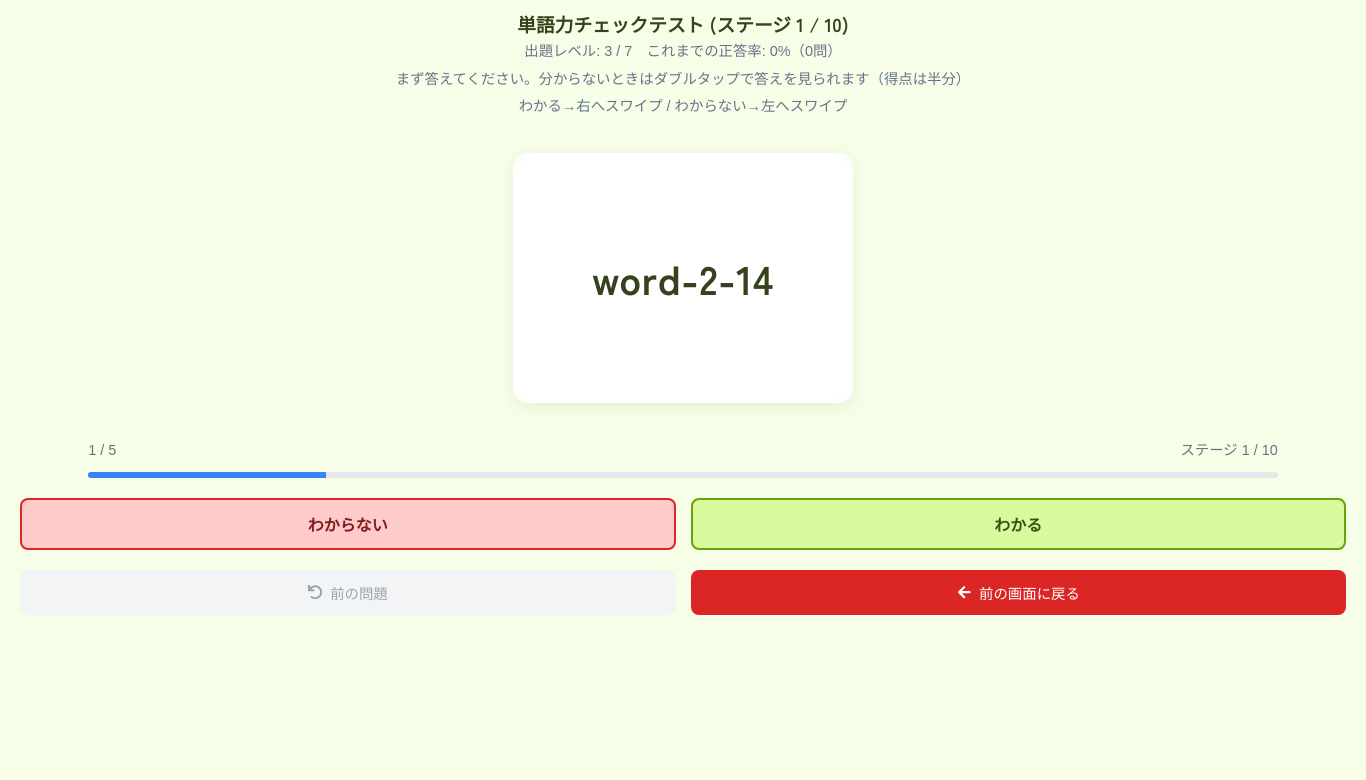
Test: ステージ途中でリセットされない › 全問不正解するとステージ2の出題レベルが下がる
Click the button "わからない" at (348, 524), box [20,498,676,550]
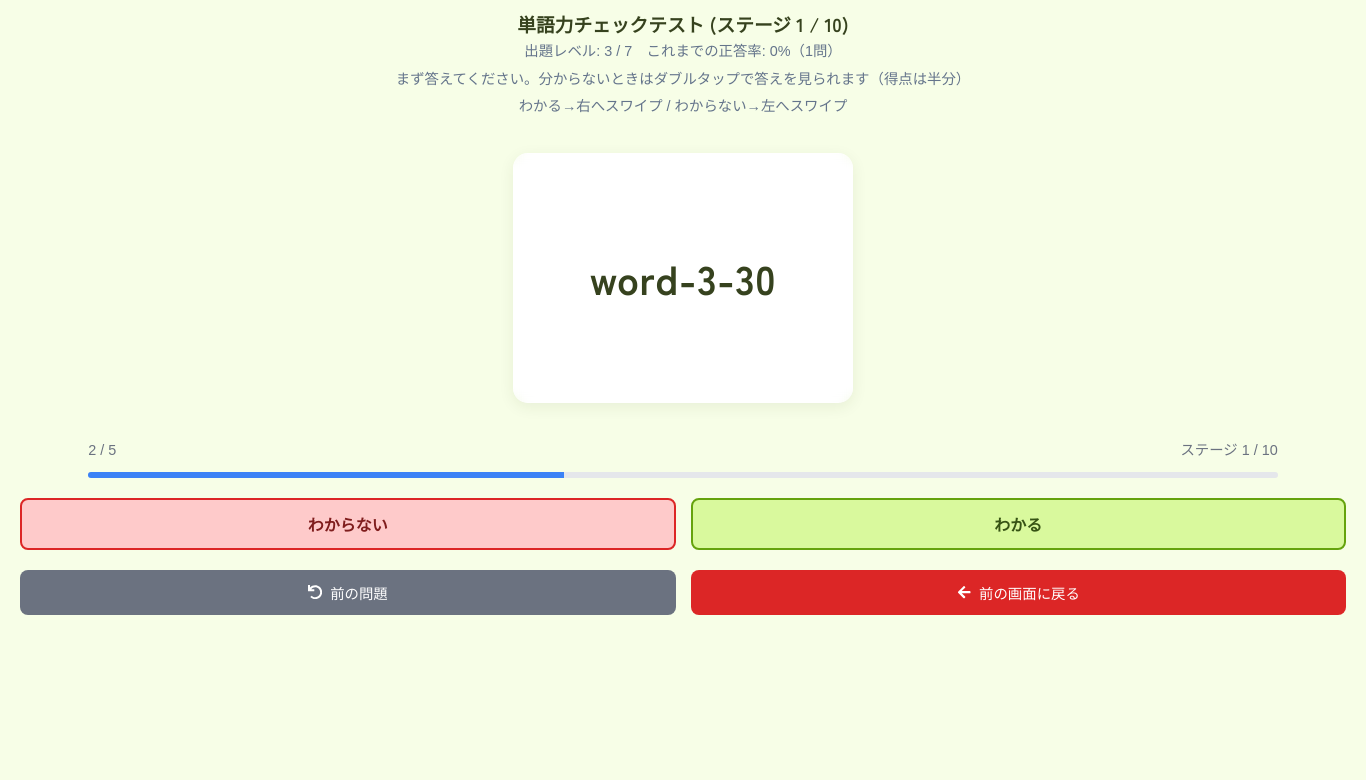
Click the button "わからない" at (348, 524), box [20,498,676,550]
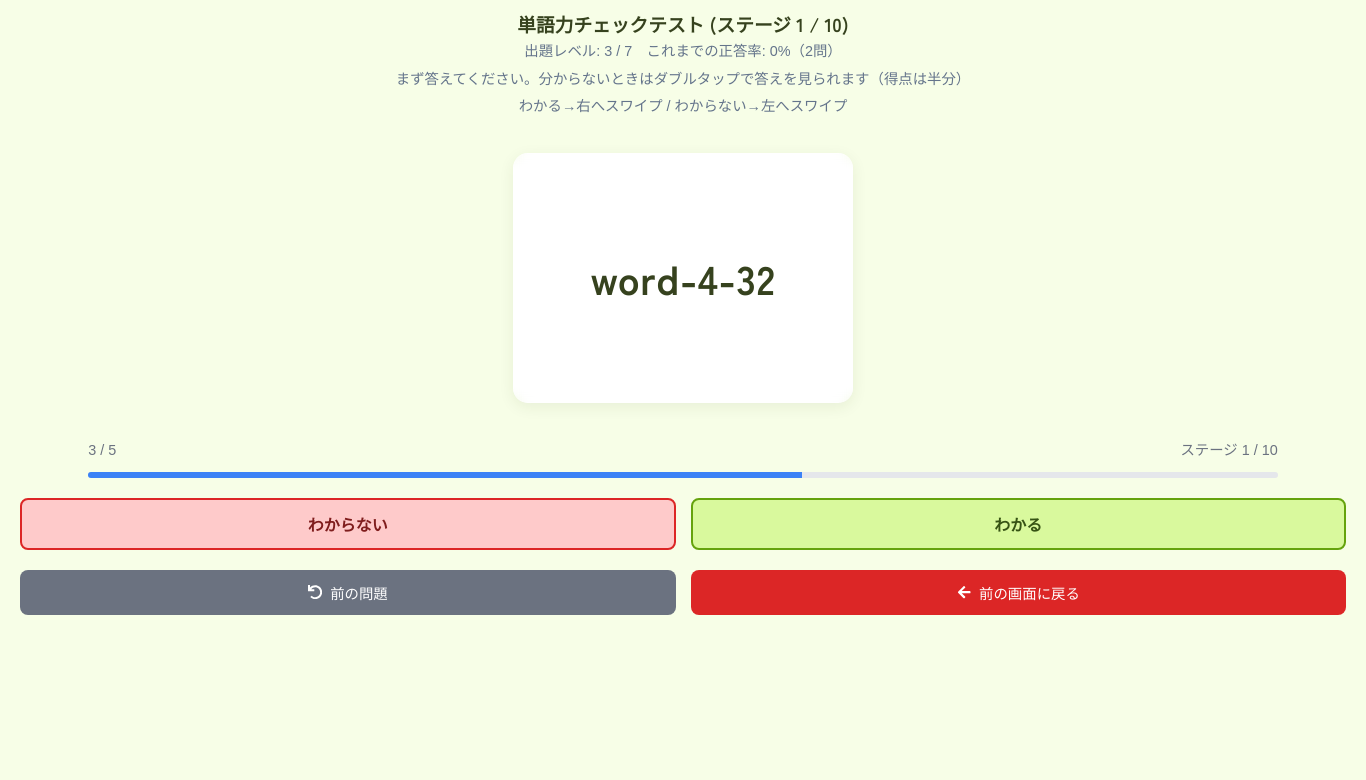
Click the button "わからない" at (348, 524), box [20,498,676,550]
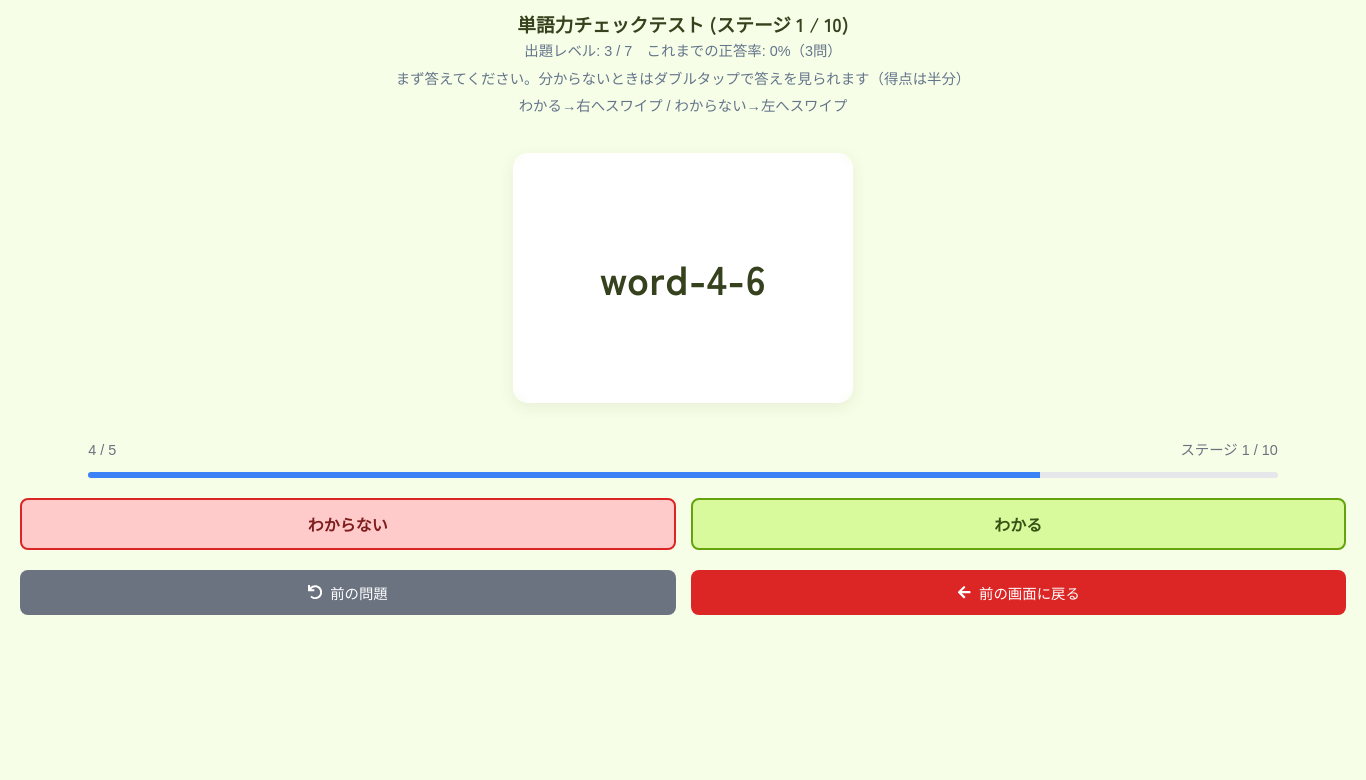
Click the button "わからない" at (348, 524), box [20,498,676,550]
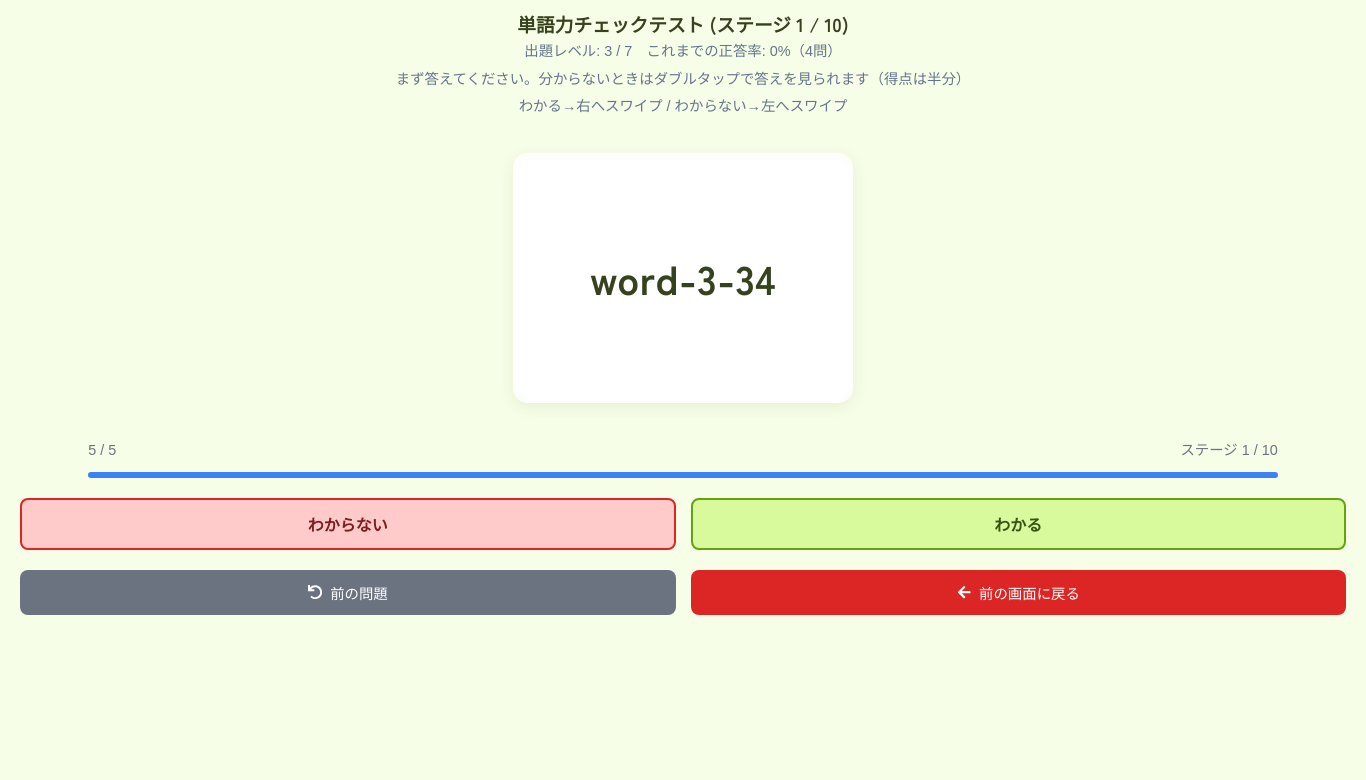
Click the button "わからない" at (348, 524), box [20,498,676,550]
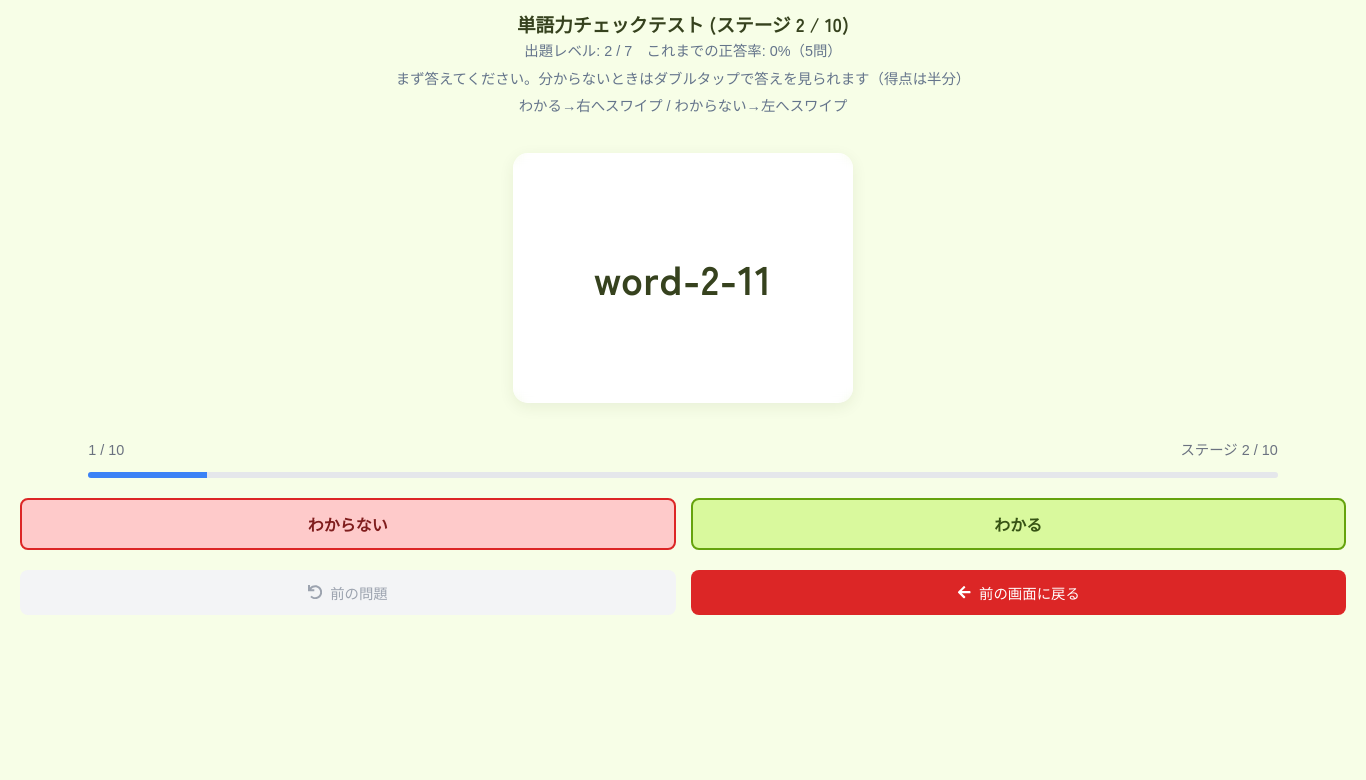
Check: the text "出題レベル: 2 / 7 これまでの正答率: 0%（5問）" is shown, box [524,43,842,59]
